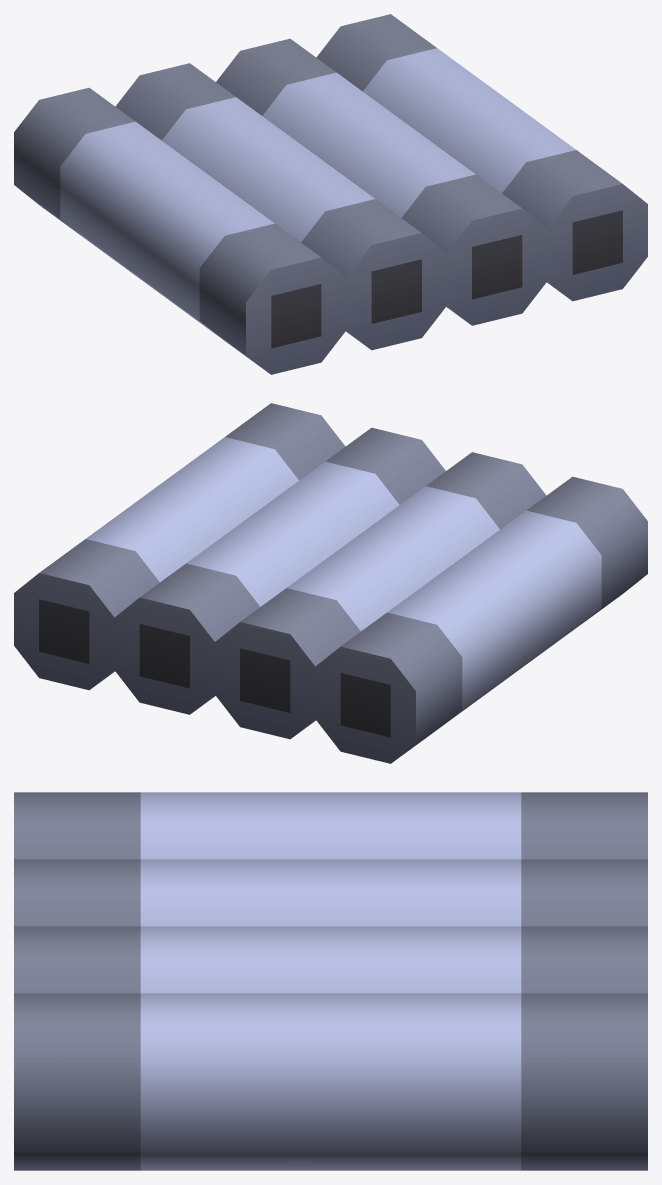
3 renders of one model, top to bottom at view 1: azimuth 30°, elevation 25°; view 2: azimuth 150°, elevation 25°; view 3: azimuth 270°, elevation 25°, orthographic. The views are drawn at different scales.
Visible parts, largest first — view 1: conveyor_bars_stripe; view 2: conveyor_bars_stripe; view 3: conveyor_bars_stripe.
Boxes of the visible parts, x1,y1,x2,y2 form: conveyor_bars_stripe: (14,14,647,374); conveyor_bars_stripe: (14,403,647,763); conveyor_bars_stripe: (14,792,647,1170).
Bounding box in the file's own units: 1 × 0.25 × 1.
1 material, 1 textured.
